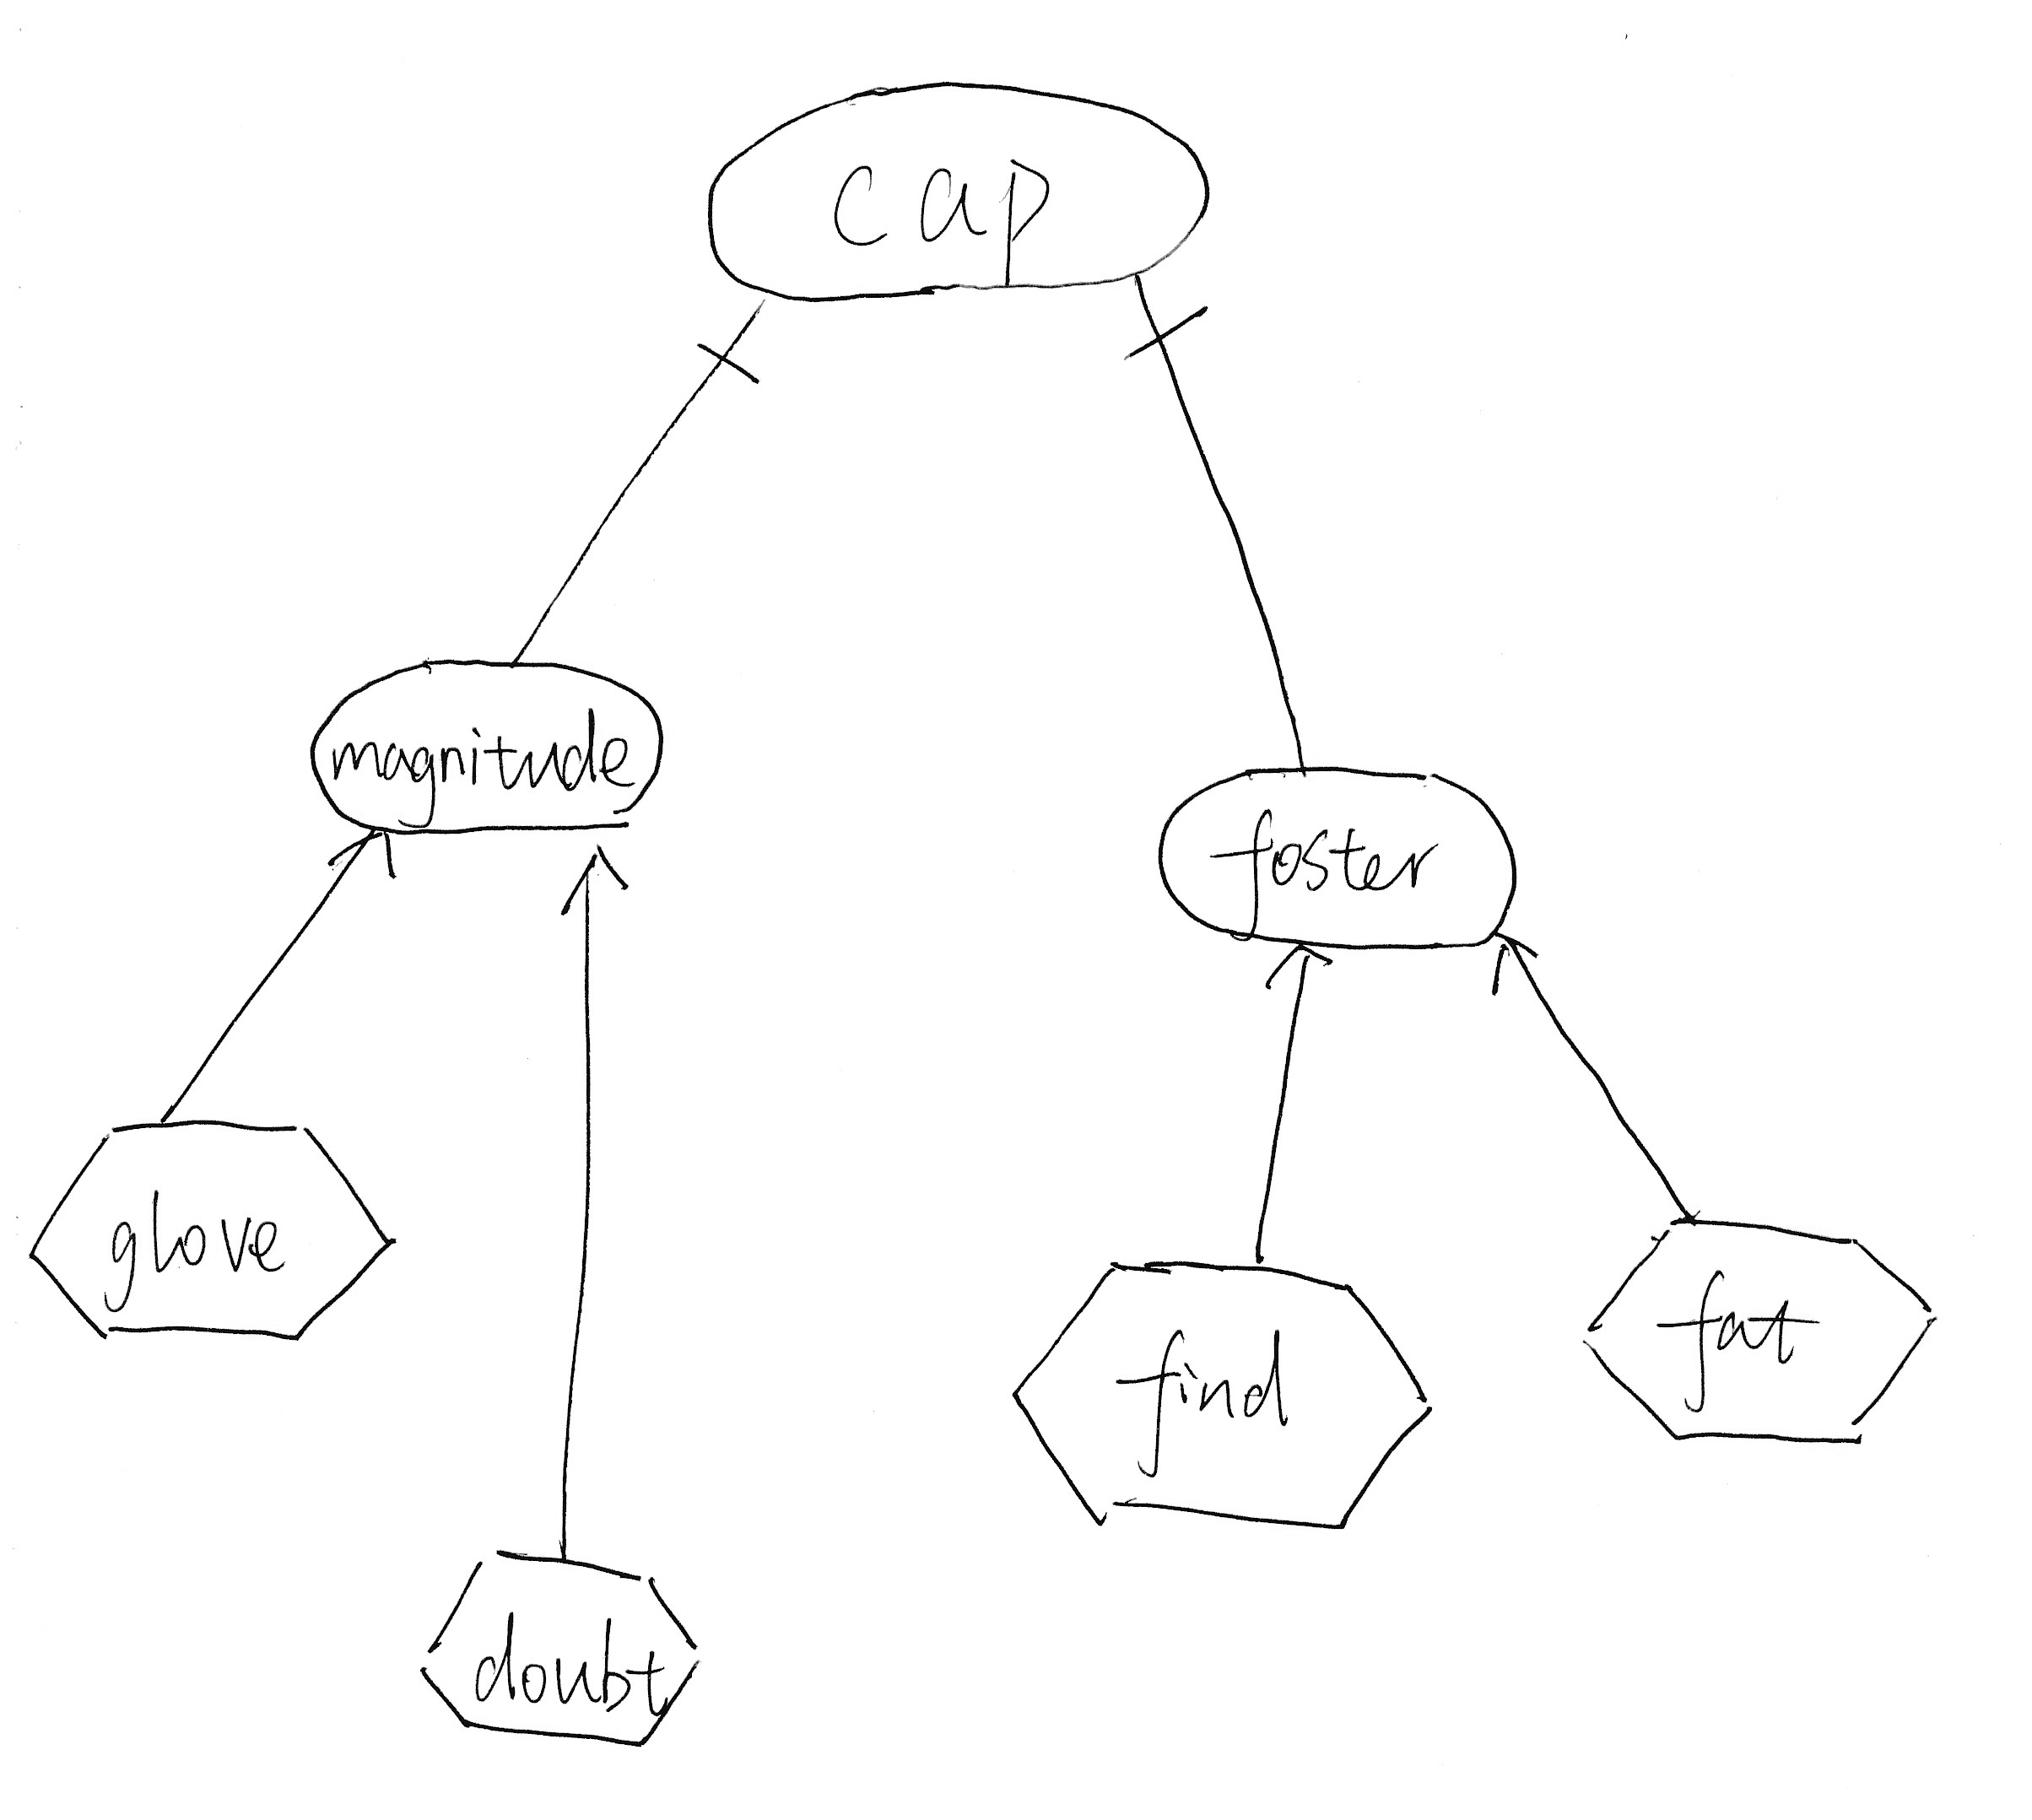and: (685, 307, 778, 413), (1112, 300, 1226, 385)
arrow: (553, 834, 646, 928), (1477, 921, 1556, 1012), (1245, 942, 1351, 1005), (318, 827, 406, 901)
goal: (688, 67, 1226, 314), (1140, 743, 1528, 964), (300, 641, 678, 849)
task: (998, 1242, 1454, 1553), (19, 1107, 411, 1354), (1563, 1210, 1949, 1456), (406, 1530, 715, 1759)
